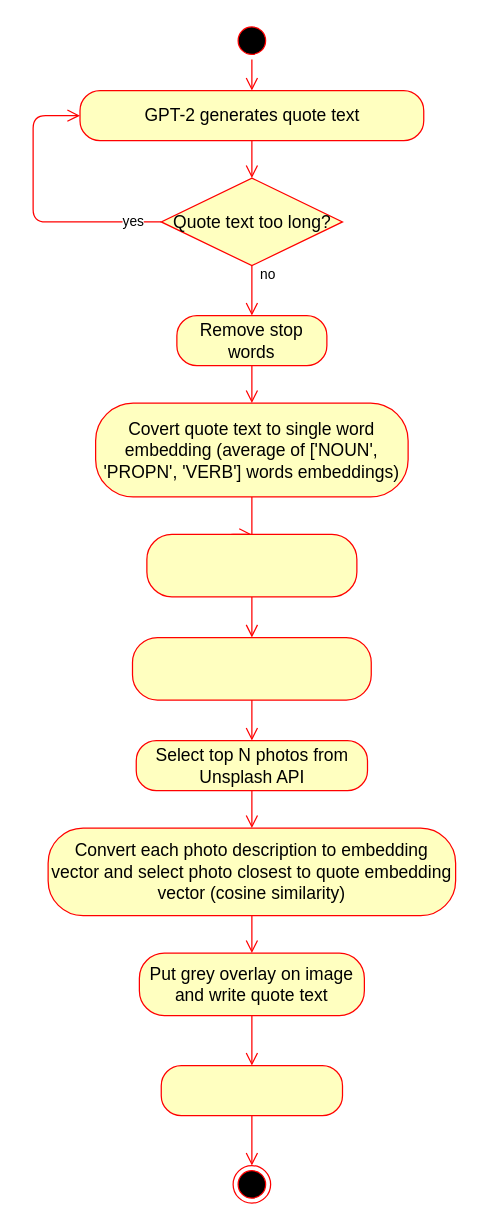
Image size: 478x1225. Some labels were removed from this diagram. Each missing label, with the box of its shape:
Get N nearest words to quote embedding vector: (146, 533, 357, 597)
Make image search by selected keywords using Unsplash API: (131, 636, 371, 700)
Post quote image to facebook: (160, 1064, 342, 1116)
